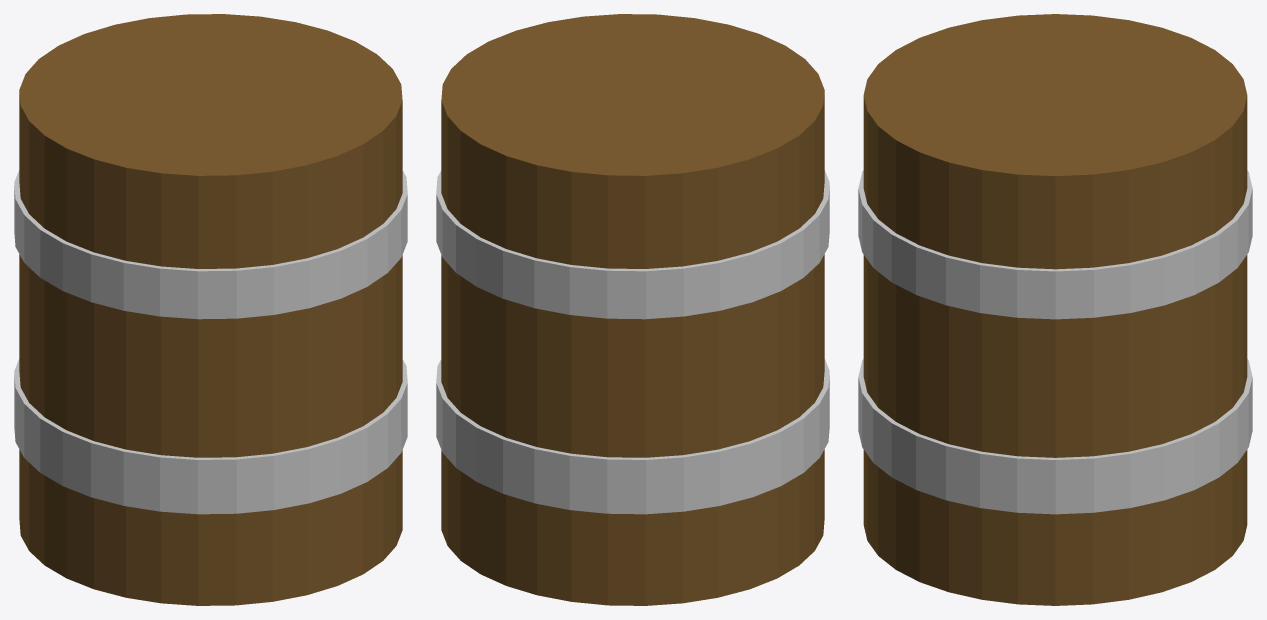
The model's file is tønde.fbx.
The picture shows the model from 3 angles, left to right: view 1: azimuth 30°, elevation 25°; view 2: azimuth 150°, elevation 25°; view 3: azimuth 270°, elevation 25°; orthographic projection.
Visible parts, largest first — view 1: Cylinder; view 2: Cylinder; view 3: Cylinder.
Part boxes in pixels (x1,y1,x2,y2): Cylinder: [14, 14, 407, 605]; Cylinder: [436, 14, 829, 605]; Cylinder: [858, 14, 1252, 605].
Bounding box in the file's own units: 138 × 167 × 138.
